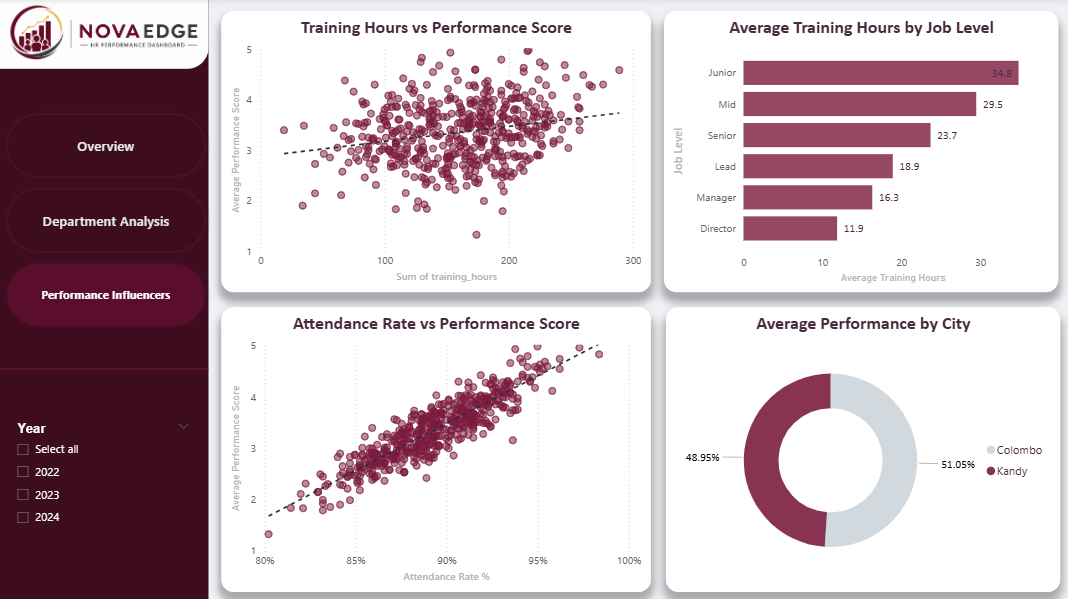

The dashboard page shown, as its layout file describes it:
{"tool":"powerbi","page":{"name":"Performance Influencers","canvas":[1280,720],"ordinal":2},"visuals":[{"type":"scatterChart","title":"Training Hours vs Performance Score","fields":{"X":["Sum(fact_performance.training_hours)"],"Y":["fact_performance.Average Performance Score"],"Category":["dim_employee.employee_id"]},"box":[264.3,16,511.6,335.4],"z":6000},{"type":"scatterChart","title":"Attendance Rate vs Performance Score","fields":{"X":["fact_performance.Attendance Rate %"],"Y":["fact_performance.Average Performance Score"],"Category":["dim_employee.employee_id"]},"box":[264.3,368.4,511.6,339.4],"z":7000},{"type":"barChart","title":"Average Training Hours by Job Level","fields":{"Category":["dim_employee.job_level","dim_department.department_name","dim_employee.employee_id"],"Y":["fact_performance.Average Training Hours"]},"box":[793.2,16.3,469.8,335.6],"z":8000},{"type":"donutChart","title":"Average Performance by City","fields":{"Category":["dim_employee.city","dim_department.department_name","dim_employee.employee_id"],"Y":["fact_performance.Average Performance Score"]},"box":[793.9,368.4,469.5,339.4],"z":9000},{"type":"shape","title":"Menue BG","box":[0,0,250,720],"z":10000},{"type":"slicer","title":"Year","fields":{"Values":["dim_date.year"]},"box":[15,499.5,220.2,149.2],"z":11000},{"type":"pageNavigator","box":[2,132.1,250.3,267.3],"z":12000},{"type":"shape","box":[0,399.4,249.3,87.1],"z":13000},{"type":"image","box":[0,0,249.9,85.4],"z":14000}]}

Visuals, with their boxes in screenshot pixels (x1, y1, x2, y2), scaled from the page's 1280x720 canvas onto the 1068x599 screenshot:
"Training Hours vs Performance Score" scatterChart: box=[221, 13, 647, 292]
"Attendance Rate vs Performance Score" scatterChart: box=[221, 306, 647, 589]
"Average Training Hours by Job Level" barChart: box=[662, 14, 1054, 293]
"Average Performance by City" donutChart: box=[662, 306, 1054, 589]
"Menue BG" shape: box=[0, 0, 209, 598]
"Year" slicer: box=[13, 416, 196, 540]
pageNavigator: box=[2, 110, 211, 332]
shape: box=[0, 332, 208, 405]
image: box=[0, 0, 209, 71]
